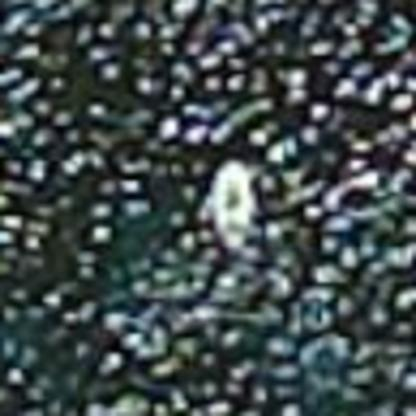ship: (197, 154, 268, 254)
